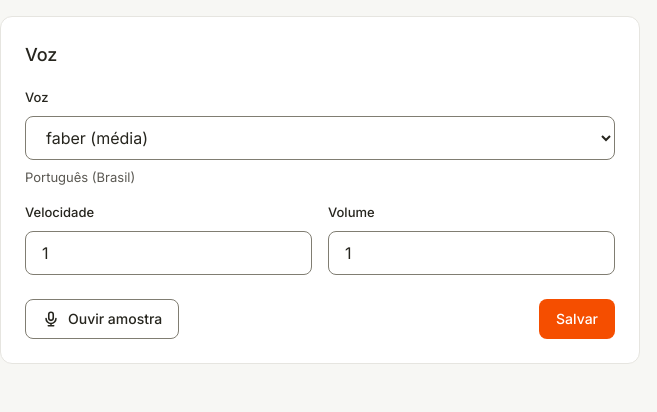
Scenario: VoiceSettingsForm: Ouvir amostra › status 503 mostra a mensagem do servidor em um alerta e não toca nada
This screenshot has width=657, height=412.
Click the button "Ouvir amostra" at (102, 318), box [25,298,179,338]
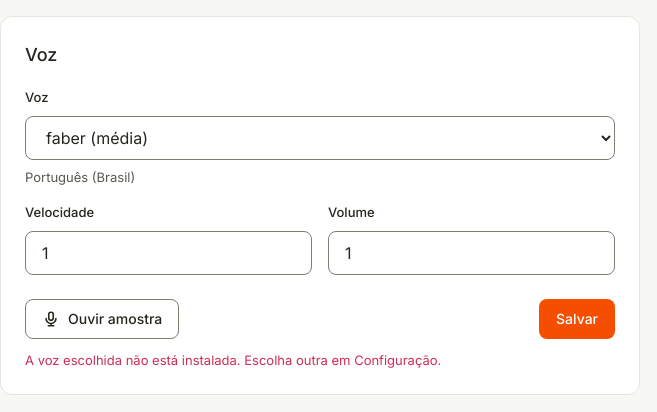
Expected: the message reads "A voz escolhida não está instalada. Escolha outra em Configuração.", [25,352,441,368]
